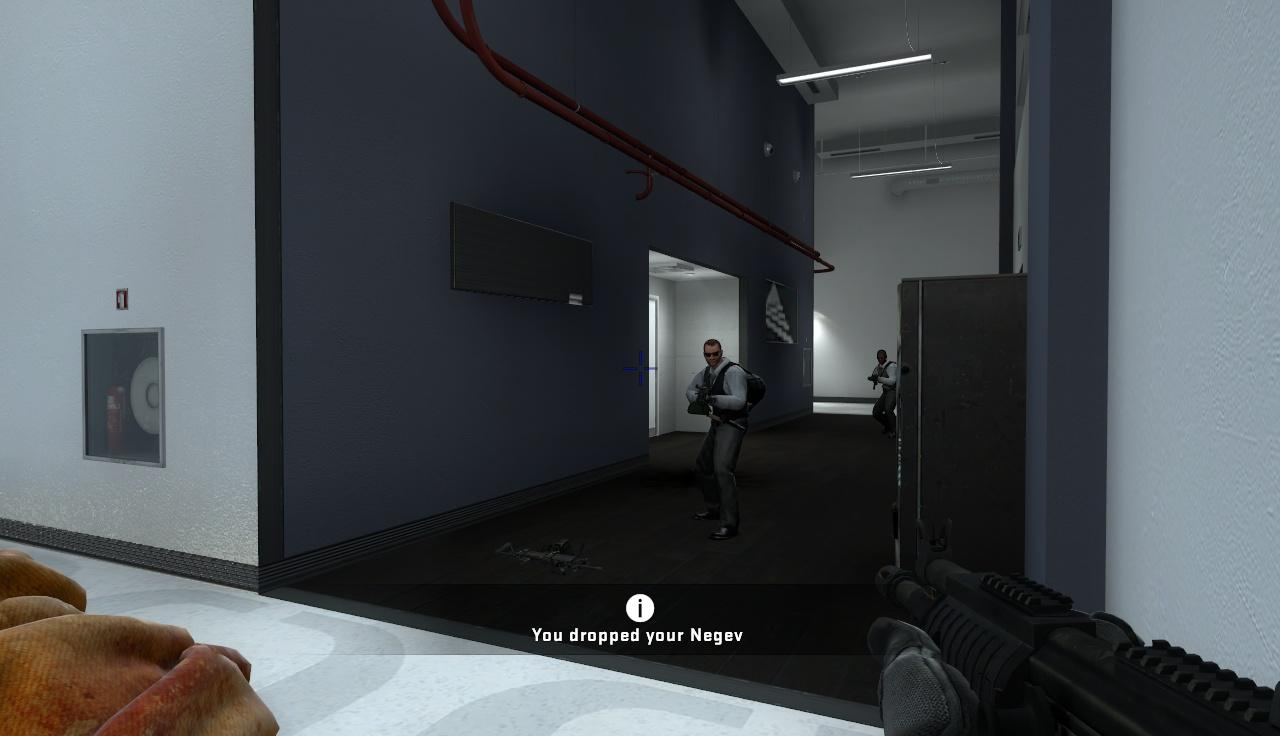rifle: (868, 517, 1280, 736)
tt: (685, 338, 746, 545), (869, 349, 897, 439)
tthead: (703, 339, 723, 368), (877, 349, 887, 364)
